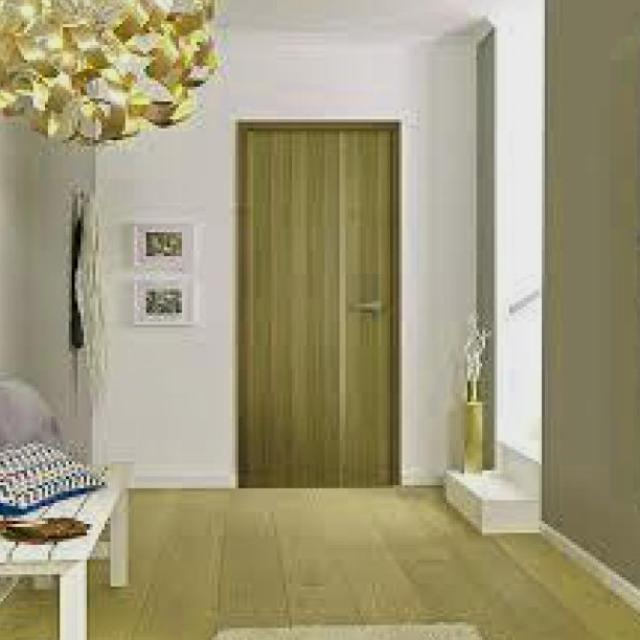door: (236, 120, 399, 488)
